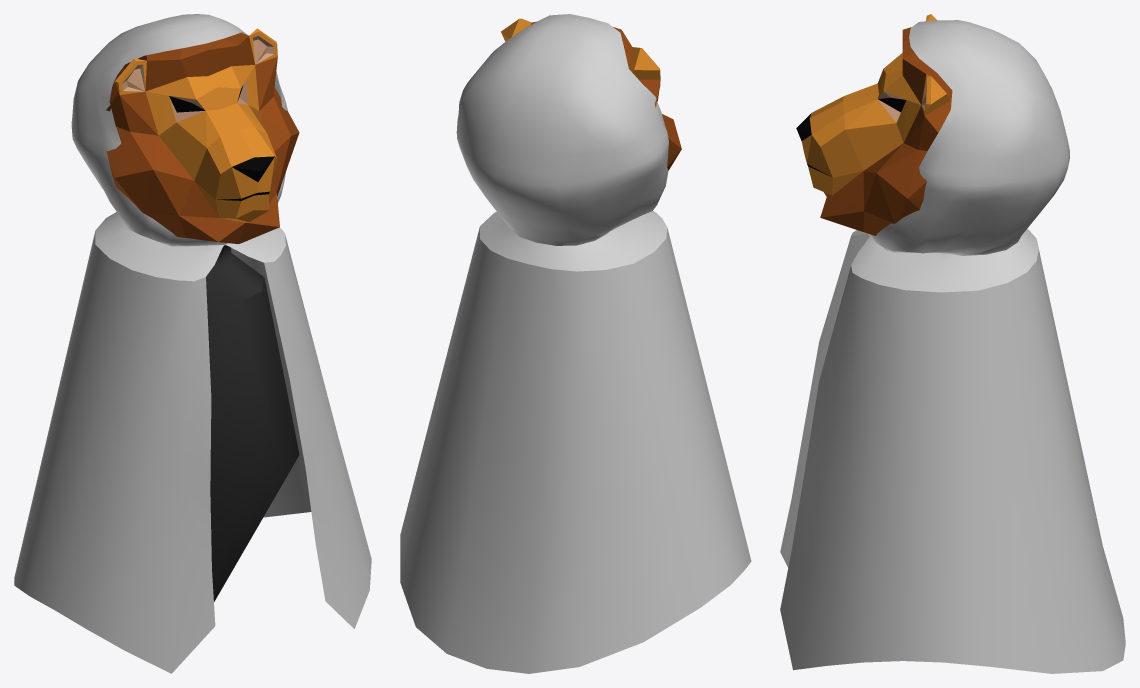
File: Lion Imaginary Friend.fbx
3 renders of one model, left to right at view 1: azimuth 30°, elevation 25°; view 2: azimuth 150°, elevation 25°; view 3: azimuth 270°, elevation 25°, orthographic. The views are drawn at different scales.
Visible parts, largest first — view 1: cape, body, Subdivision_Surface_1; view 2: cape, Subdivision_Surface_1, body; view 3: cape, Subdivision_Surface_1, body.
Boxes of the visible parts, x1=… form: cape: x1=14, y1=231, x2=371, y2=673; body: x1=106, y1=28, x2=299, y2=601; Subdivision_Surface_1: x1=71, y1=14, x2=287, y2=281; cape: x1=400, y1=227, x2=751, y2=673; Subdivision_Surface_1: x1=456, y1=14, x2=668, y2=271; body: x1=501, y1=18, x2=681, y2=170; cape: x1=780, y1=233, x2=1125, y2=673; Subdivision_Surface_1: x1=851, y1=20, x2=1069, y2=292; body: x1=796, y1=14, x2=952, y2=235.
Bounding box in the file's own units: 402 × 709 × 363.
